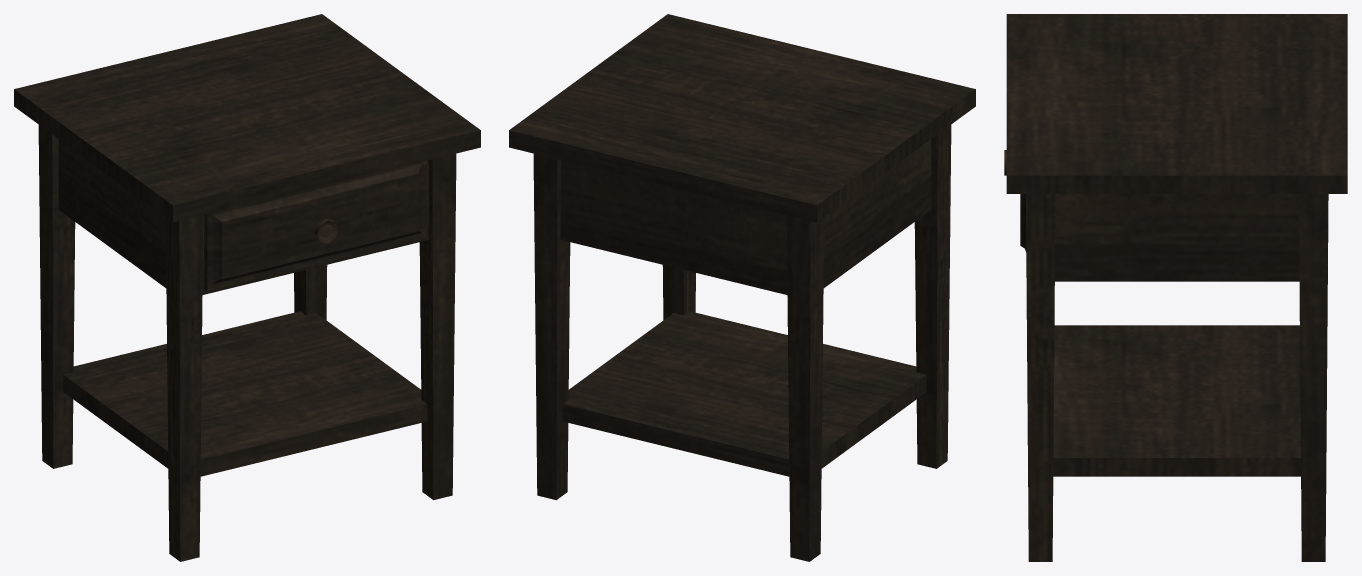
Rendered from bedside_table_1_2.fbx.
The picture shows the model from 3 angles, left to right: view 1: azimuth 30°, elevation 25°; view 2: azimuth 150°, elevation 25°; view 3: azimuth 270°, elevation 25°; orthographic projection. The views are drawn at different scales.
Parts seen in each view (by area): view 1: bedside_table_1_2, bedside_table_1_2_drawer; view 2: bedside_table_1_2; view 3: bedside_table_1_2.
Boxes of the visible parts, x1=… form: bedside_table_1_2: x1=14, y1=14, x2=480, y2=561; bedside_table_1_2_drawer: x1=204, y1=160, x2=427, y2=291; bedside_table_1_2: x1=509, y1=14, x2=975, y2=561; bedside_table_1_2: x1=1006, y1=14, x2=1347, y2=561.
Bounding box in the file's own units: 0.56 × 0.5035 × 0.64.
